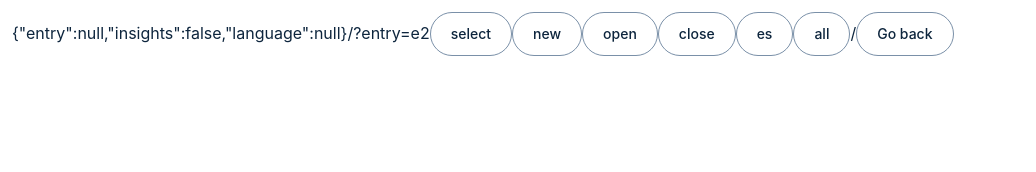
Test: useWorkspaceParams › changes the language inside open insights without a history entry Back would reopen the sheet from
Click the button "open" at (620,34), box [582, 12, 658, 56]
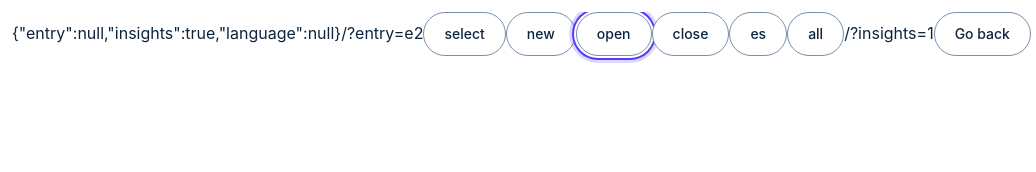
Click the button "es" at (758,34), box [729, 12, 787, 56]
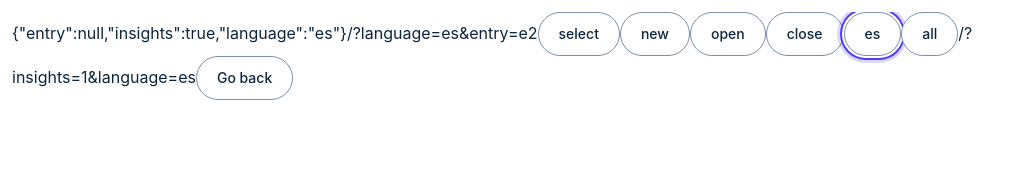
Click the button "close" at (805,34), box [766, 12, 844, 56]
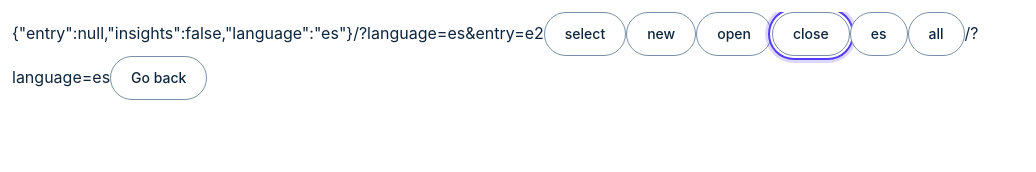
Expected: the text named "Location" reads "/?language=es", [12, 23, 978, 87]
Click the button "Go back" at (159,78), box [110, 56, 207, 100]
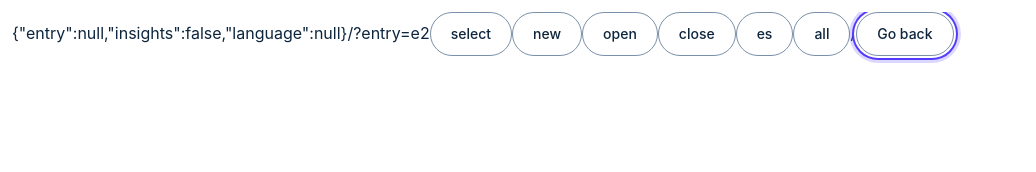
Expected: the text named "Location" reads "/", [850, 23, 856, 43]
